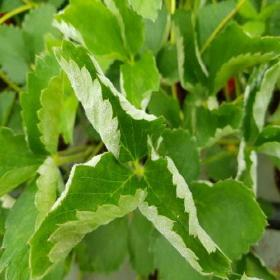Powdery Mildew Leaf: (26, 150, 148, 279), (52, 37, 167, 163), (137, 137, 233, 279), (50, 0, 131, 73), (170, 7, 211, 99), (240, 61, 279, 145), (120, 48, 160, 109), (233, 136, 258, 201)
